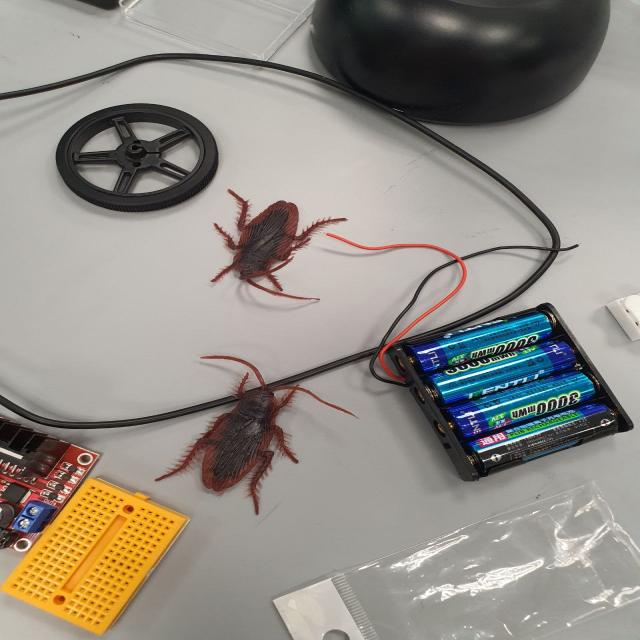Cockroach: (151, 368, 310, 511), (209, 184, 326, 305)
